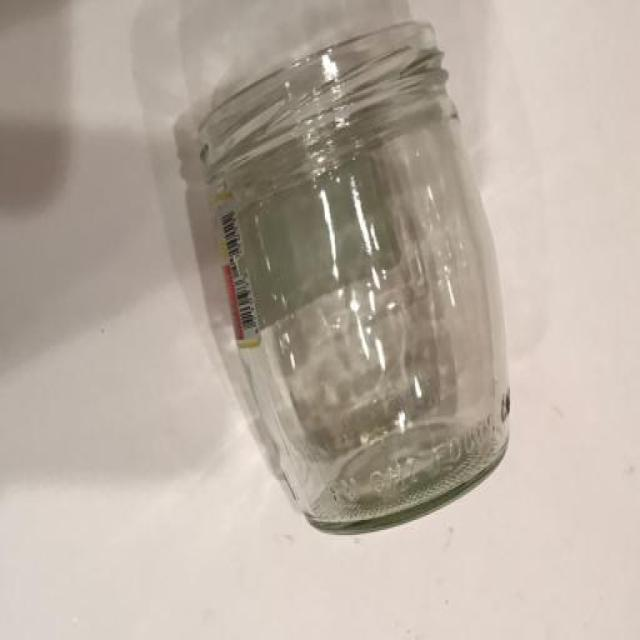glass: (149, 13, 515, 543)
